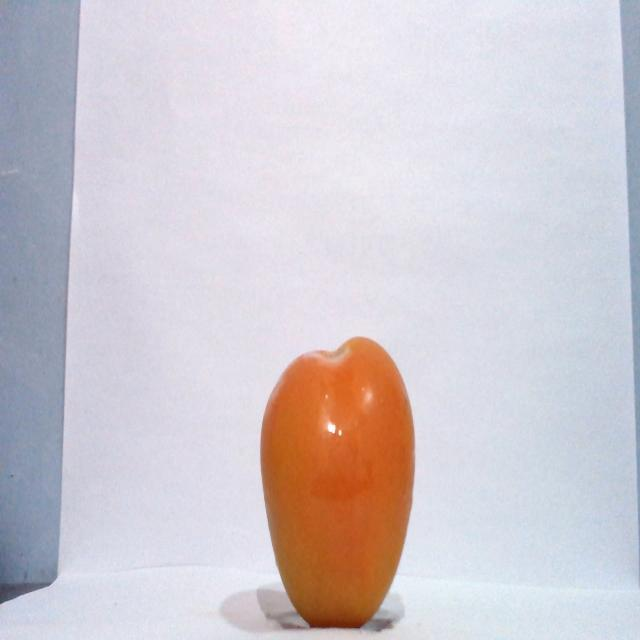Red: (258, 334, 416, 628)
